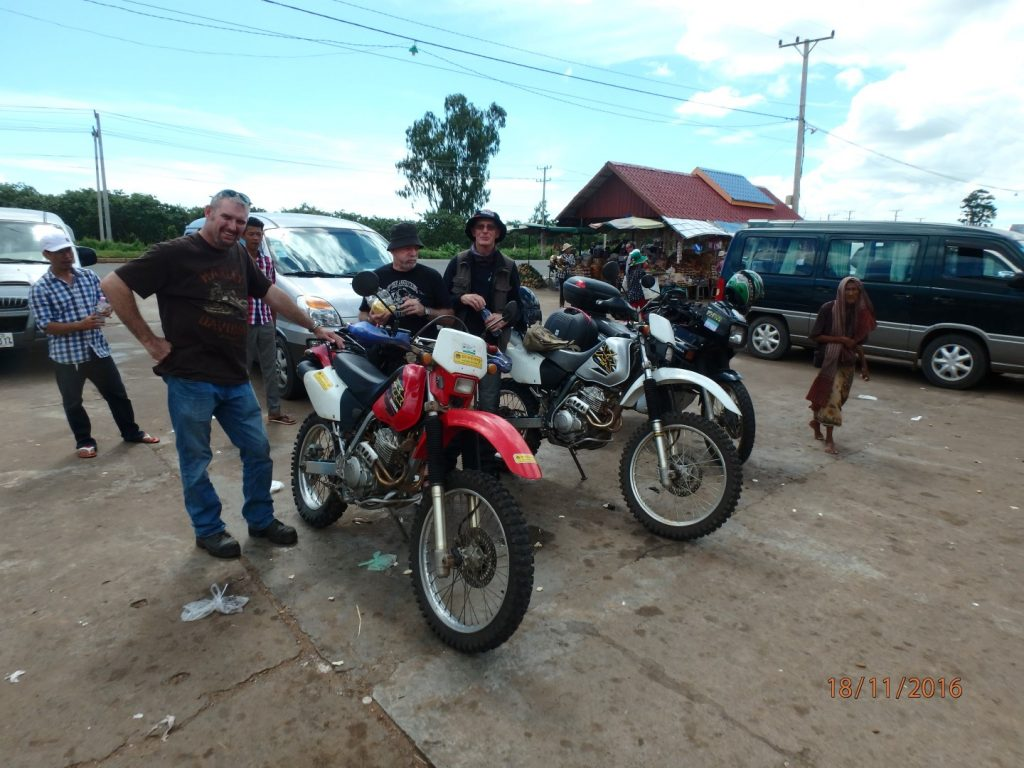motorbike: (295, 316, 559, 662), (503, 306, 757, 558)
